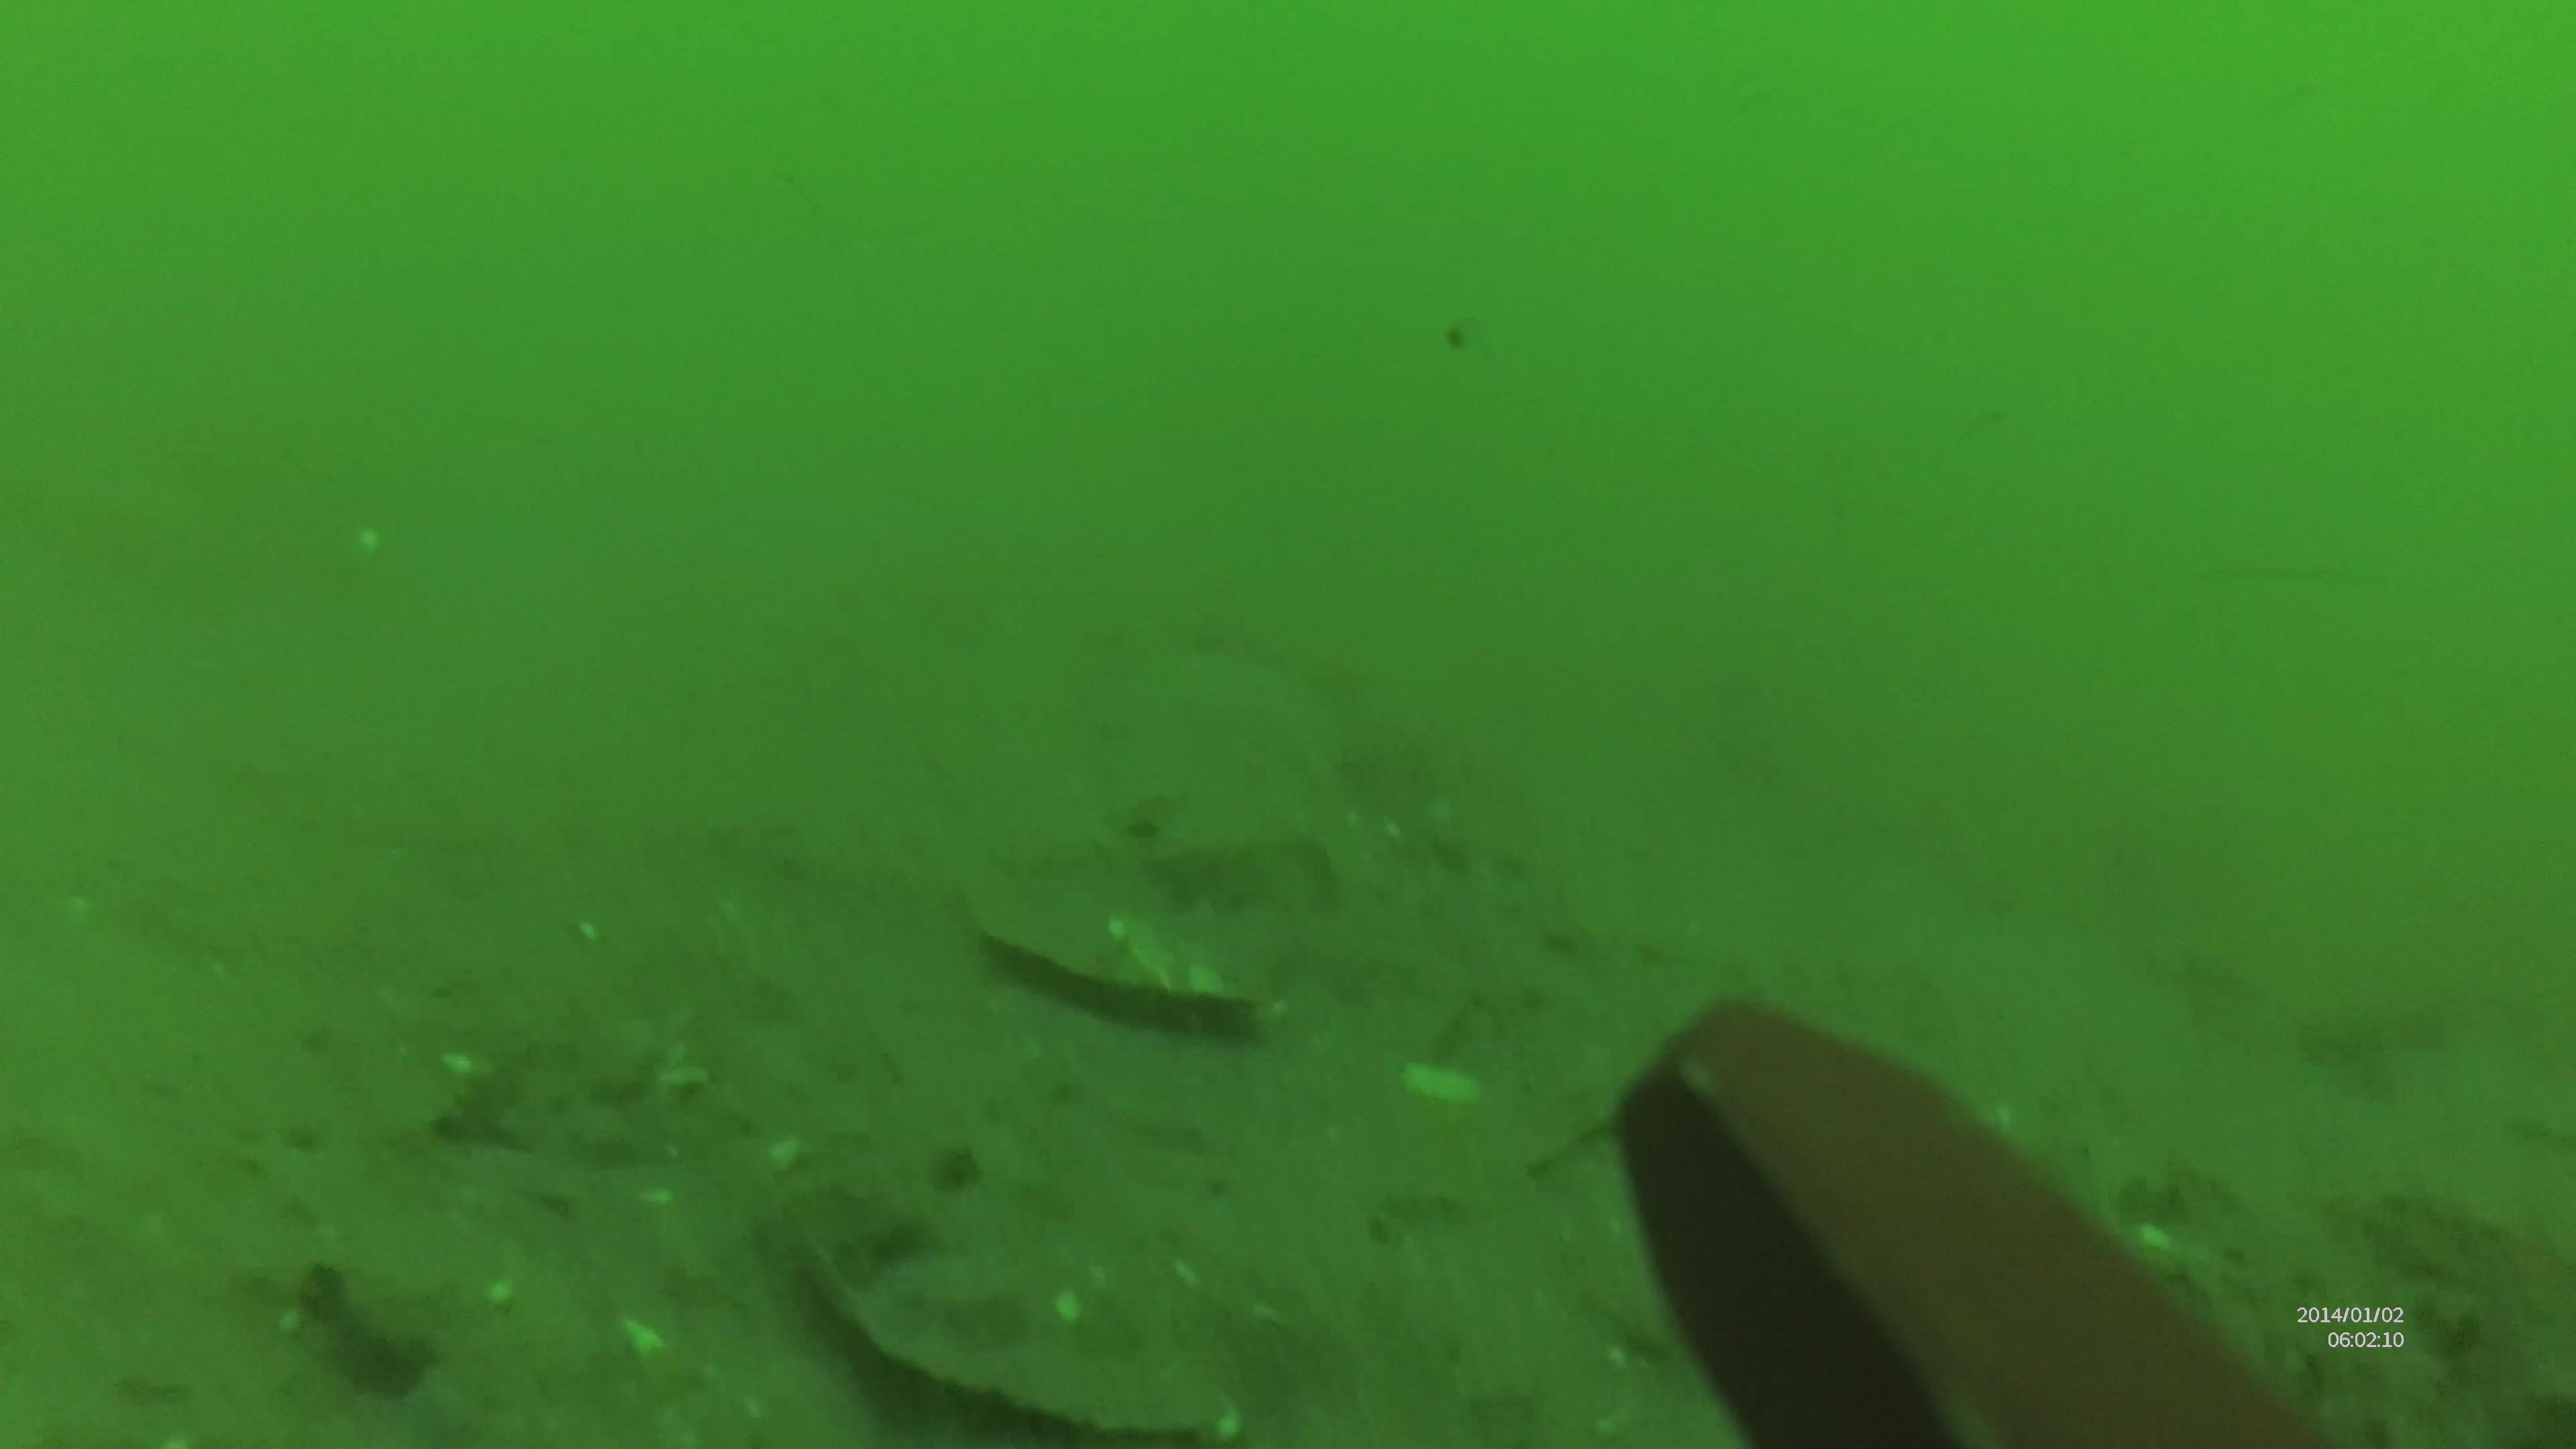scallop: (978, 872, 1260, 1060)
